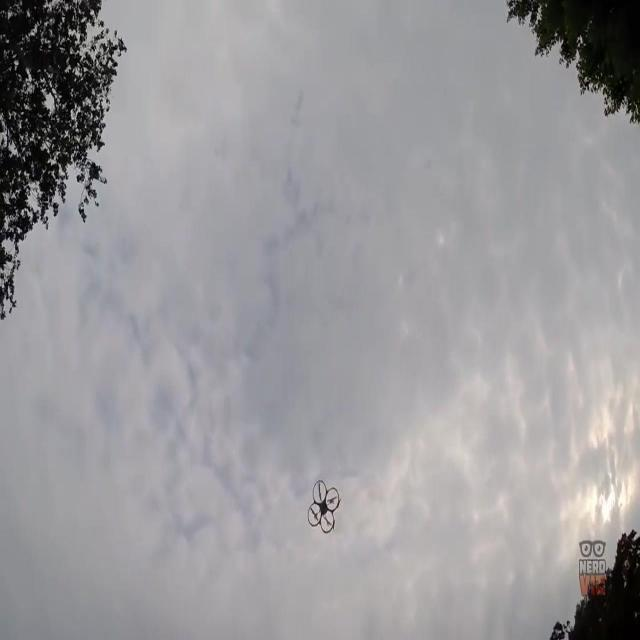UAV: (308, 479, 342, 533)
